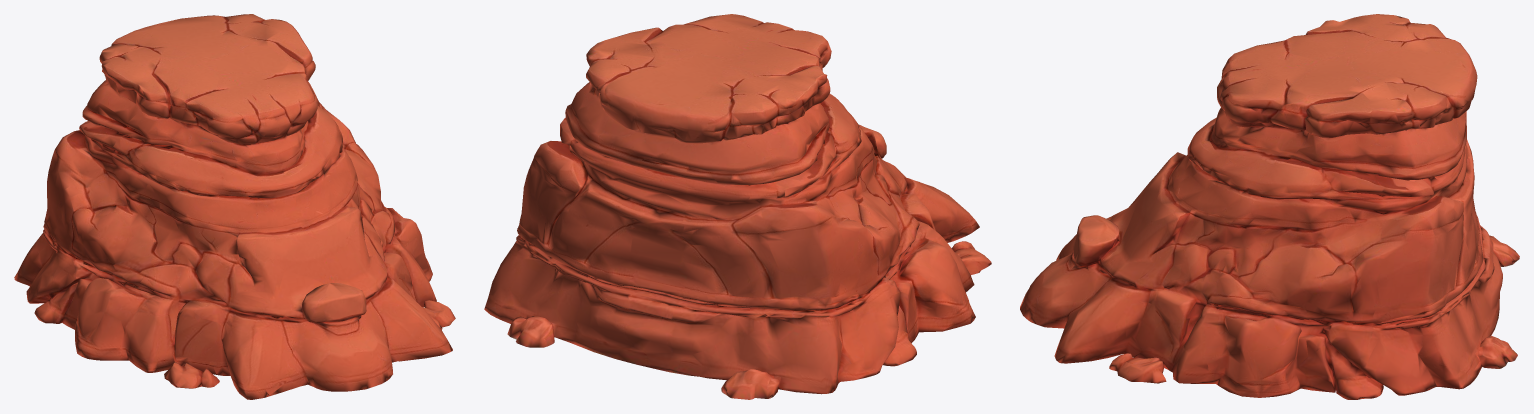
Rendered from desertMesa.b1f0299c.glb.
3 renders of one model, left to right at view 1: azimuth 30°, elevation 25°; view 2: azimuth 150°, elevation 25°; view 3: azimuth 270°, elevation 25°, orthographic. The views are drawn at different scales.
Bounding box in the file's own units: 1.71 × 1.03 × 1.9.
Materials: 1 (1 with a texture image).
